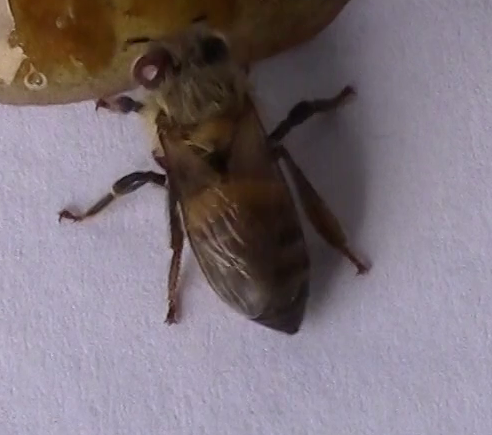Varroa destructor: (131, 47, 177, 90)
